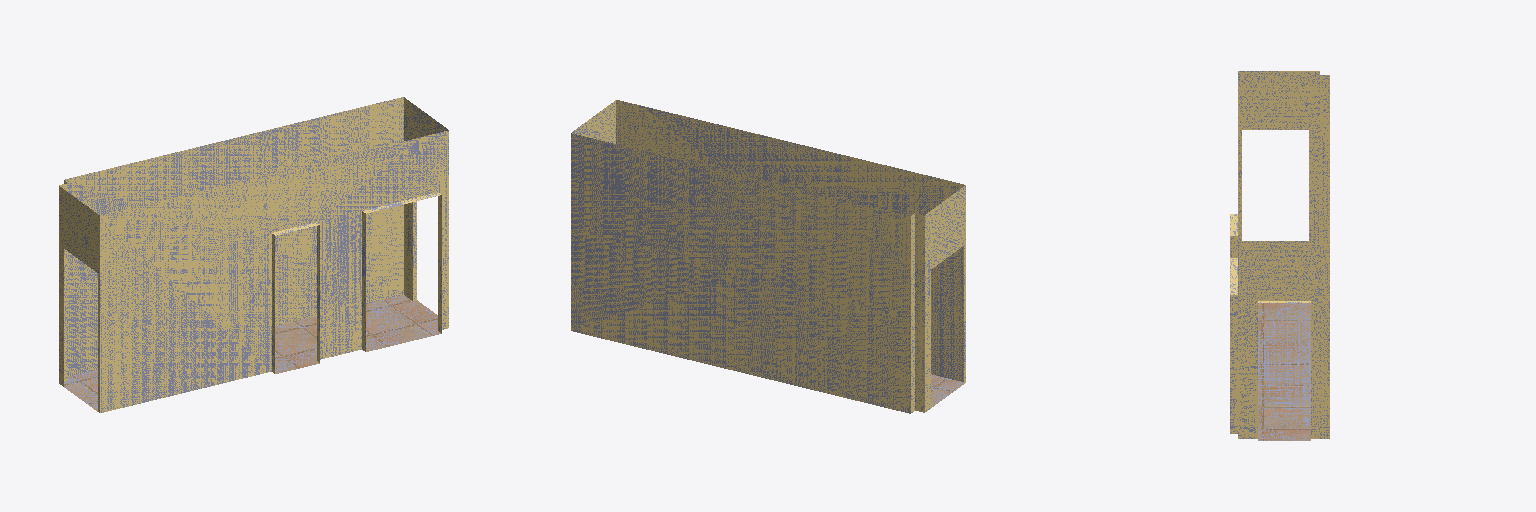
The picture shows the model from 3 angles: view 1: azimuth 30°, elevation 25°; view 2: azimuth 150°, elevation 25°; view 3: azimuth 270°, elevation 25°; orthographic projection.
Visible parts, largest first — view 1: Mesh1 Group1 Model; view 2: Mesh1 Group1 Model; view 3: Mesh1 Group1 Model.
Boxes of the visible parts, <box> form: Mesh1 Group1 Model: <box>59,97,448,412</box>; Mesh1 Group1 Model: <box>571,100,965,413</box>; Mesh1 Group1 Model: <box>1230,71,1329,440</box>.
Size of the model in its own units: 5.62 by 3 by 1.36.
3 materials, 1 textured.